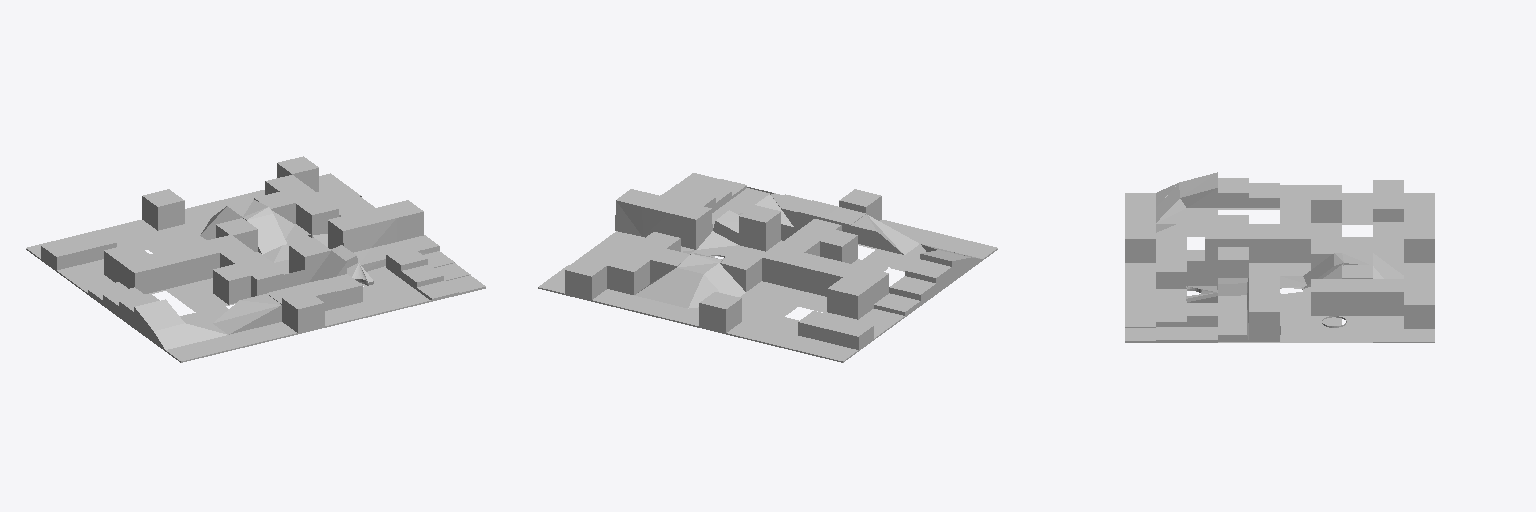
Rendered from Nivel2.obj.
The picture shows the model from 3 angles: view 1: azimuth 30°, elevation 25°; view 2: azimuth 150°, elevation 25°; view 3: azimuth 270°, elevation 25°; orthographic projection.
Parts seen in each view (by area): view 1: Cube; view 2: Cube; view 3: Cube.
Part boxes in pixels (x1,y1,x2,y2): Cube: (26,156,485,362); Cube: (538,173,997,362); Cube: (1125,172,1434,342).
Bounding box in the file's own units: 22.69 × 2.65 × 20.